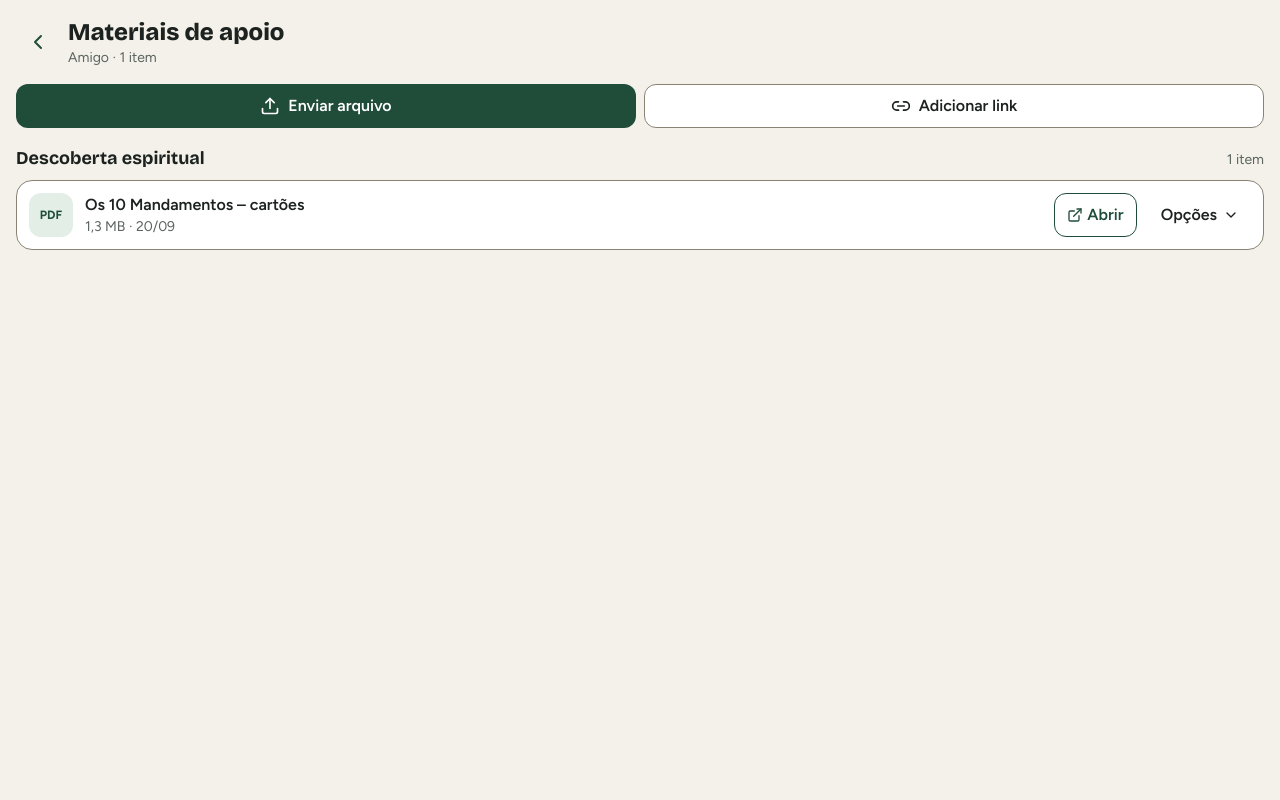
Scenario: Materiais › apagar que falha mantém o diálogo aberto com a mensagem; de novo com sucesso, fecha
Click the button "Opções" at (1200, 215), box x1=1149 y1=193 x2=1251 y2=237
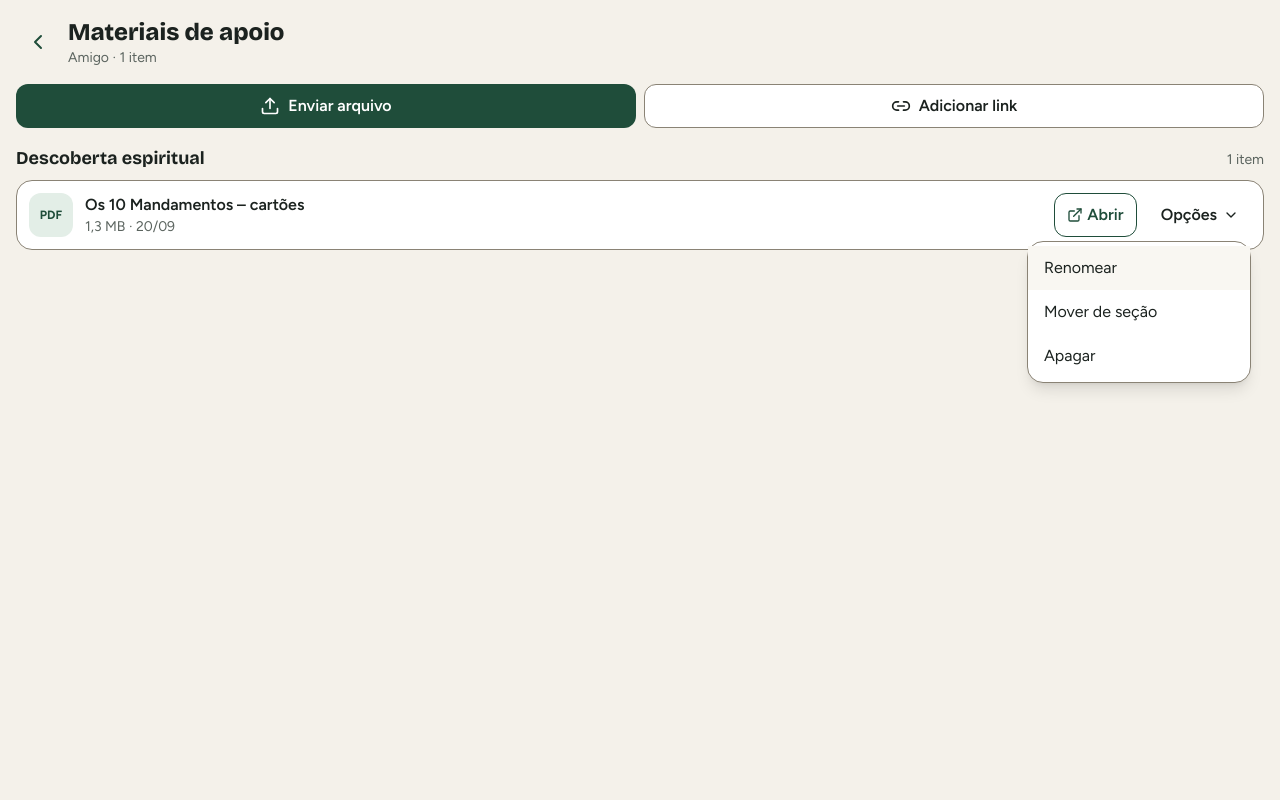
Click the menu item "Apagar" at (1139, 356), box x1=1028 y1=334 x2=1250 y2=378
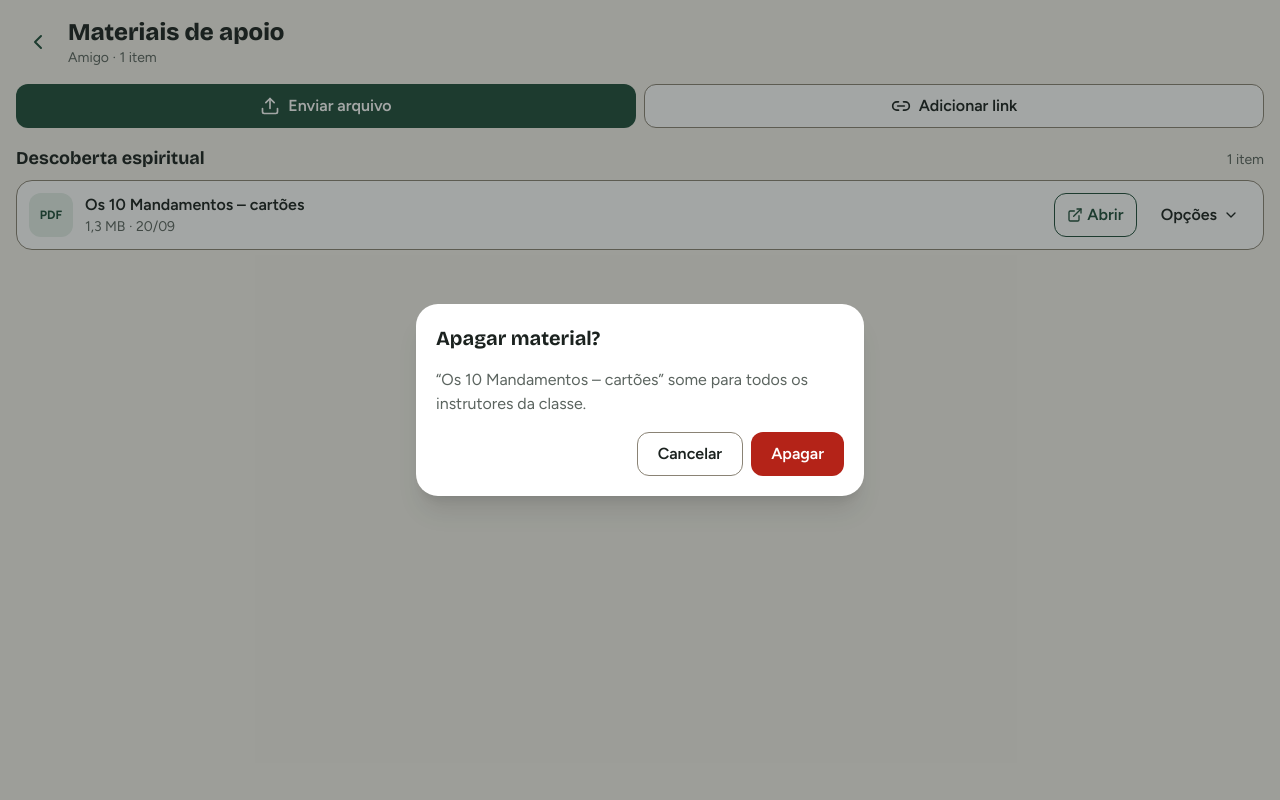
Click the button "Apagar" at (798, 454), box x1=751 y1=432 x2=844 y2=476
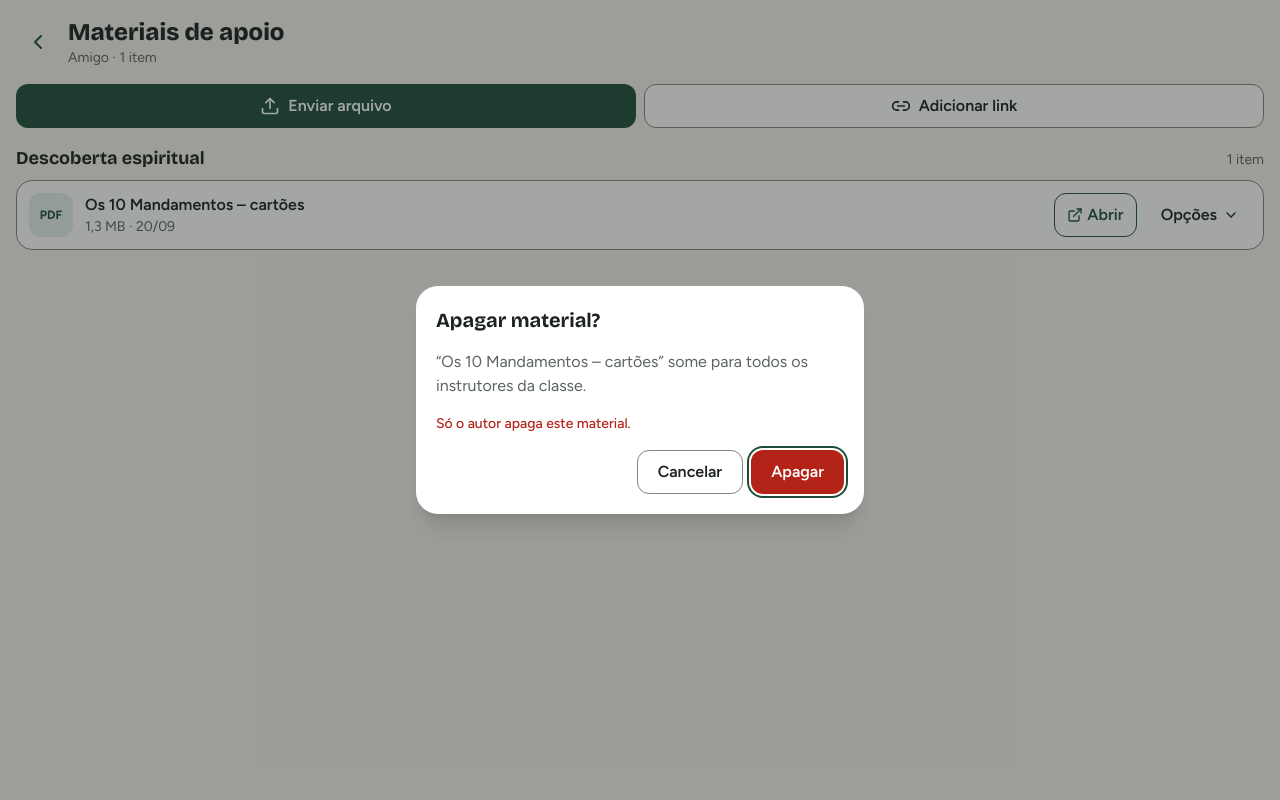
Result: the dialog "Apagar material?" is shown at x1=416 y1=286 x2=864 y2=514
Result: the message reads "Só o autor apaga este material." at x1=436 y1=415 x2=631 y2=432
Click the button "Apagar" at (798, 472), box x1=751 y1=450 x2=844 y2=494
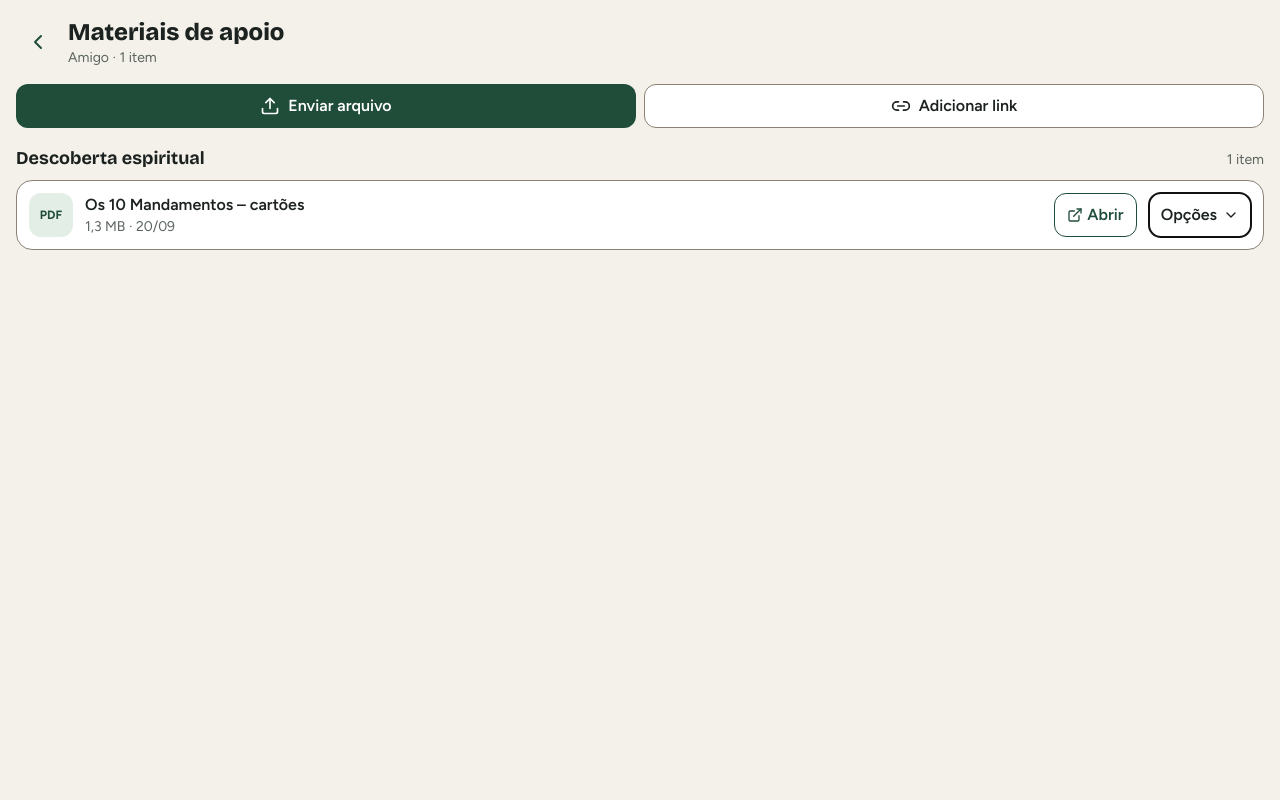
Result: the heading "Apagar material?" is gone
